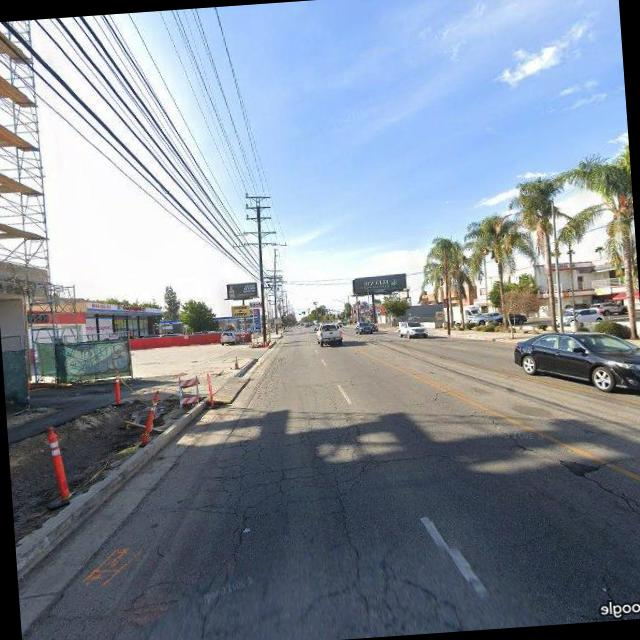crack: (76, 389, 472, 640)
pothole: (475, 392, 640, 526)
